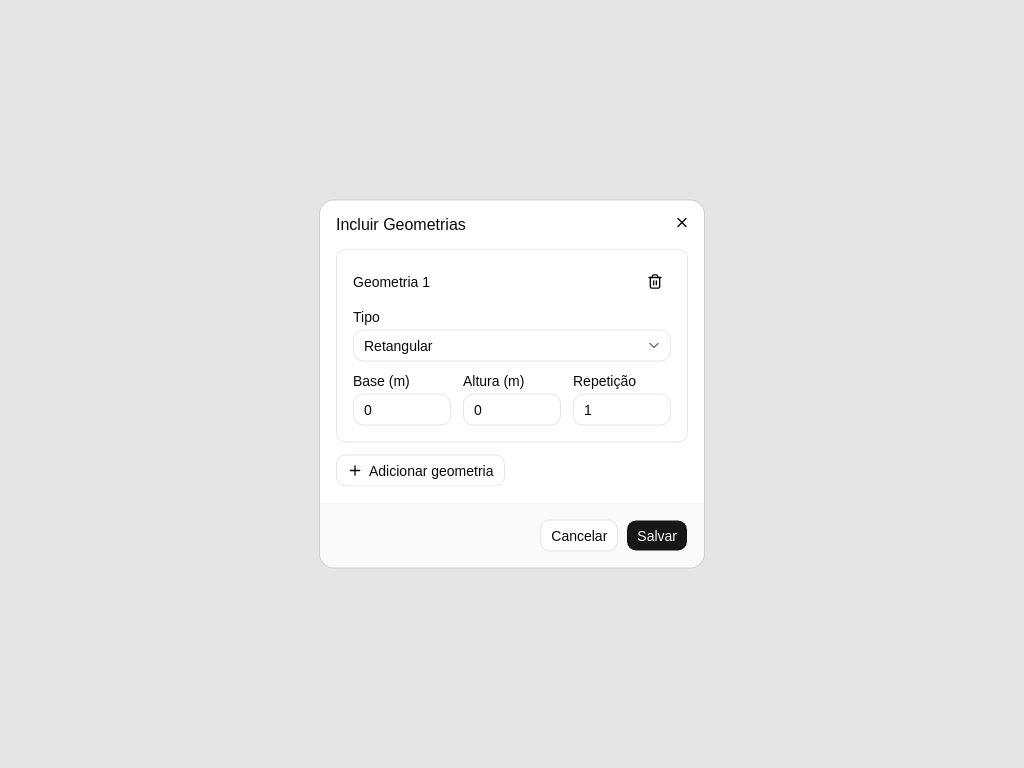
it: ModalGeometrias (UC08/UC09-FE) › adiciona e remove itens (useFieldArray)
Click the button "Adicionar geometria" at (420, 470), box left=336, top=454, right=504, bottom=486
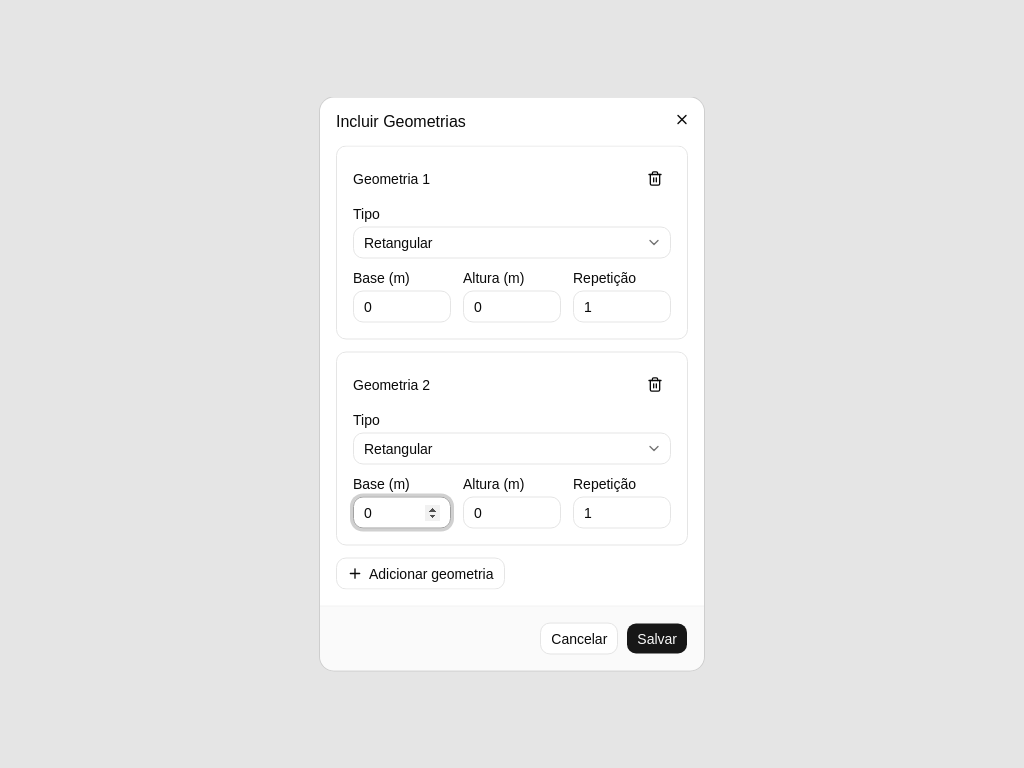
expect the text "Geometria 2" is shown: met, box left=353, top=374, right=430, bottom=394
Click the button named "Remover geometria 2" at (655, 384), box left=639, top=368, right=671, bottom=400
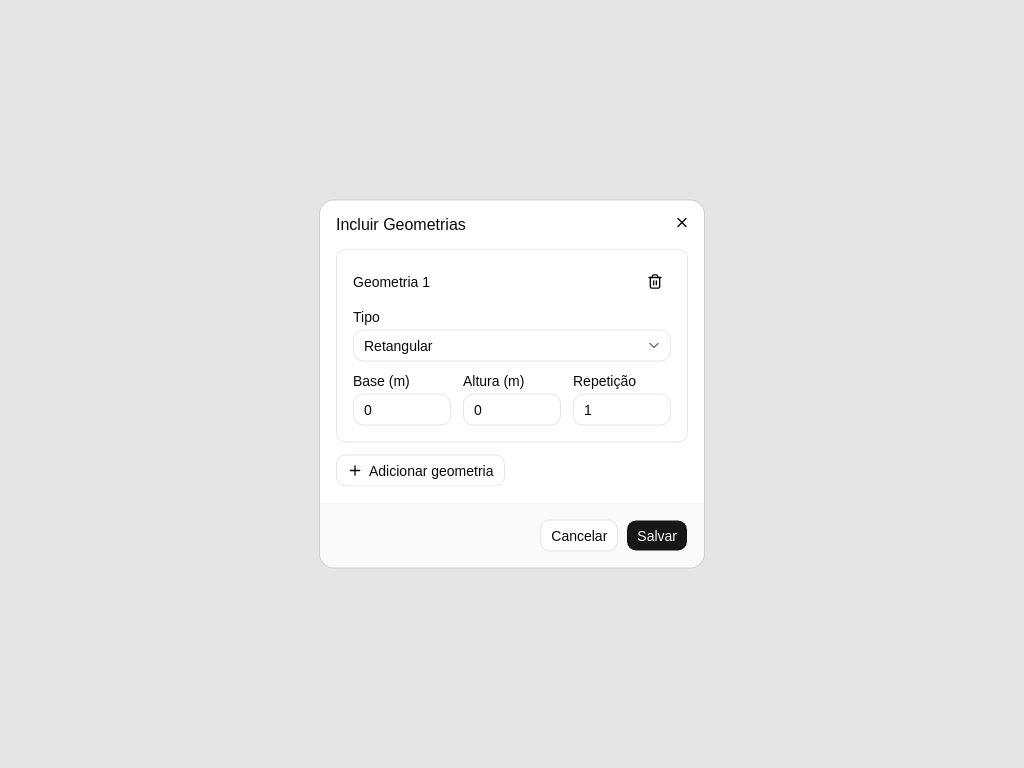
expect the text "Geometria 2" is gone: met
